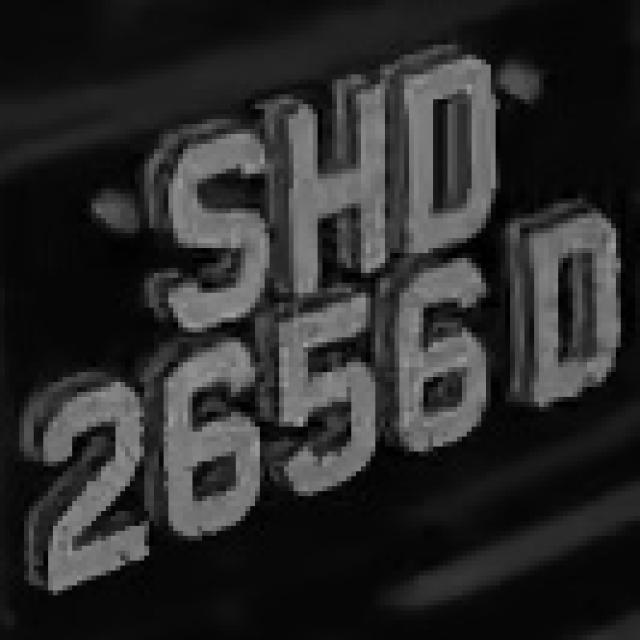2: (19, 362, 154, 605)
5: (250, 303, 385, 506)
6: (144, 332, 279, 560), (366, 263, 500, 466)
D: (380, 55, 525, 248), (505, 223, 640, 412)
H: (246, 79, 394, 288)
S: (106, 119, 279, 328)
